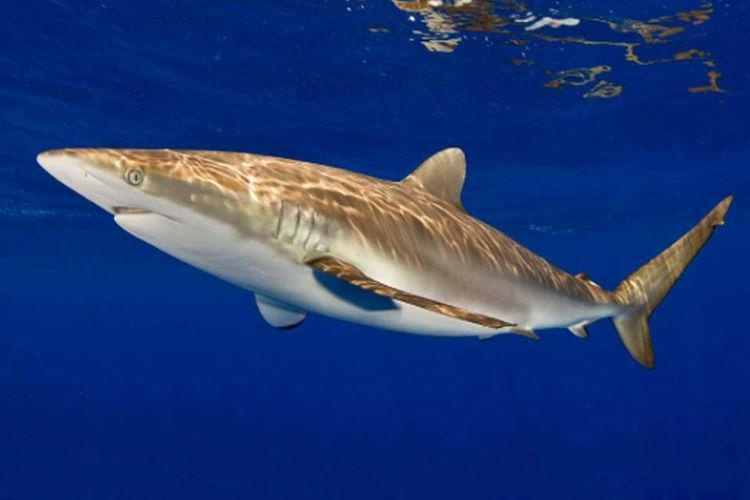fish: (31, 131, 733, 369)
